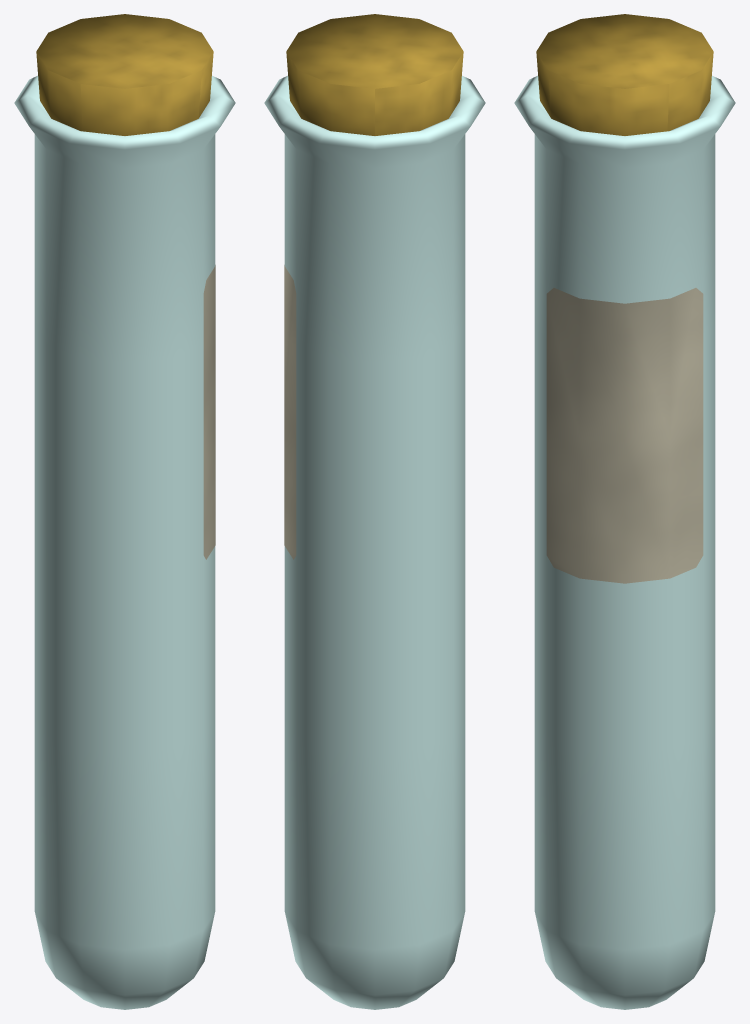
3 views of the same model, side by side, from view 1: azimuth 30°, elevation 25°; view 2: azimuth 150°, elevation 25°; view 3: azimuth 270°, elevation 25° (orthographic).
Parts seen in each view (by area): view 1: tube, cork-tube, tag-tube; view 2: tube, cork-tube, tag-tube; view 3: tube, tag-tube, cork-tube.
Boxes of the visible parts, x1,y1,x2,y2 form: tube: (14, 75, 235, 1009); cork-tube: (36, 14, 213, 135); tag-tube: (203, 265, 215, 559); tube: (264, 75, 485, 1009); cork-tube: (286, 14, 463, 135); tag-tube: (284, 265, 296, 559); tube: (514, 75, 735, 1009); tag-tube: (546, 288, 703, 583); cork-tube: (536, 14, 713, 135).
Size of the model in its own units: 0.0343 by 0.1612 by 0.0343.
3 materials, 2 textured.
